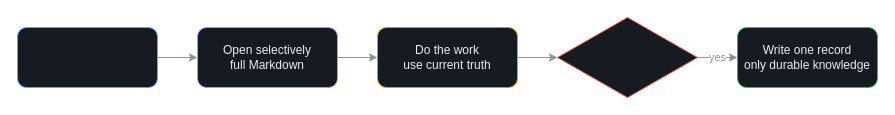
The diagram is 895 pixels wide and 115 high, and some of its shapes have lost their labels. Here are the shapes that lost their labels. From the top down, the box of each, then its label:
(16, 26, 158, 88): Search first ranked summaries
(556, 16, 698, 98): Worth forgetting?
